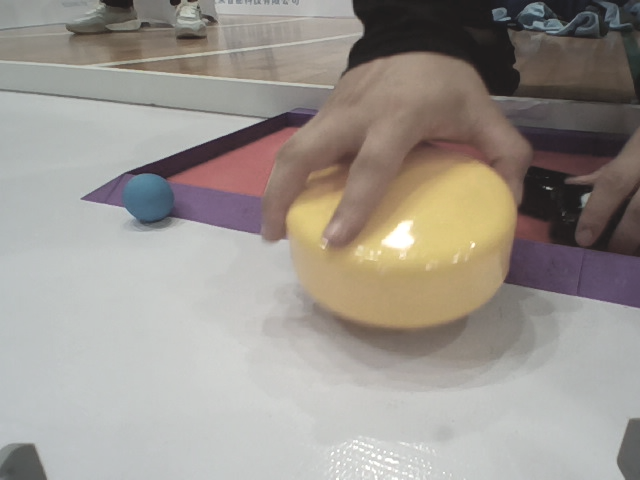black: (511, 148, 626, 220), (533, 188, 640, 255)
blue: (119, 174, 172, 226)
kuang: (99, 102, 640, 324)
yellow: (281, 137, 527, 331)
